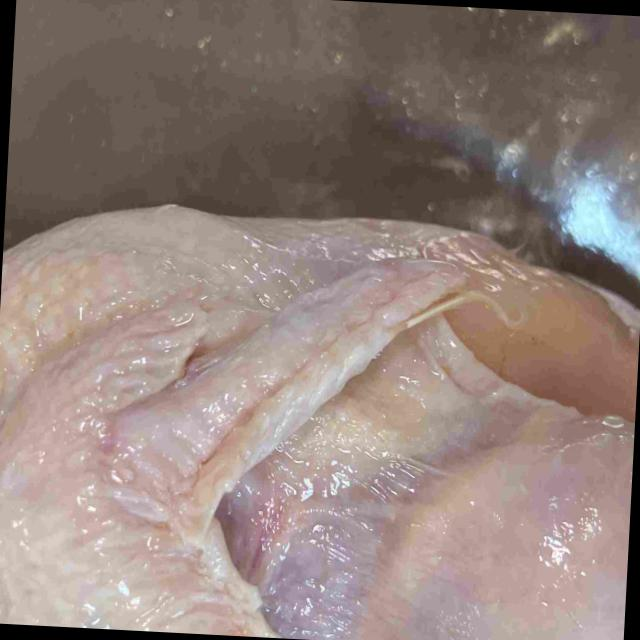leg: (360, 428, 634, 640), (507, 307, 640, 431)
wing: (0, 257, 520, 638)
